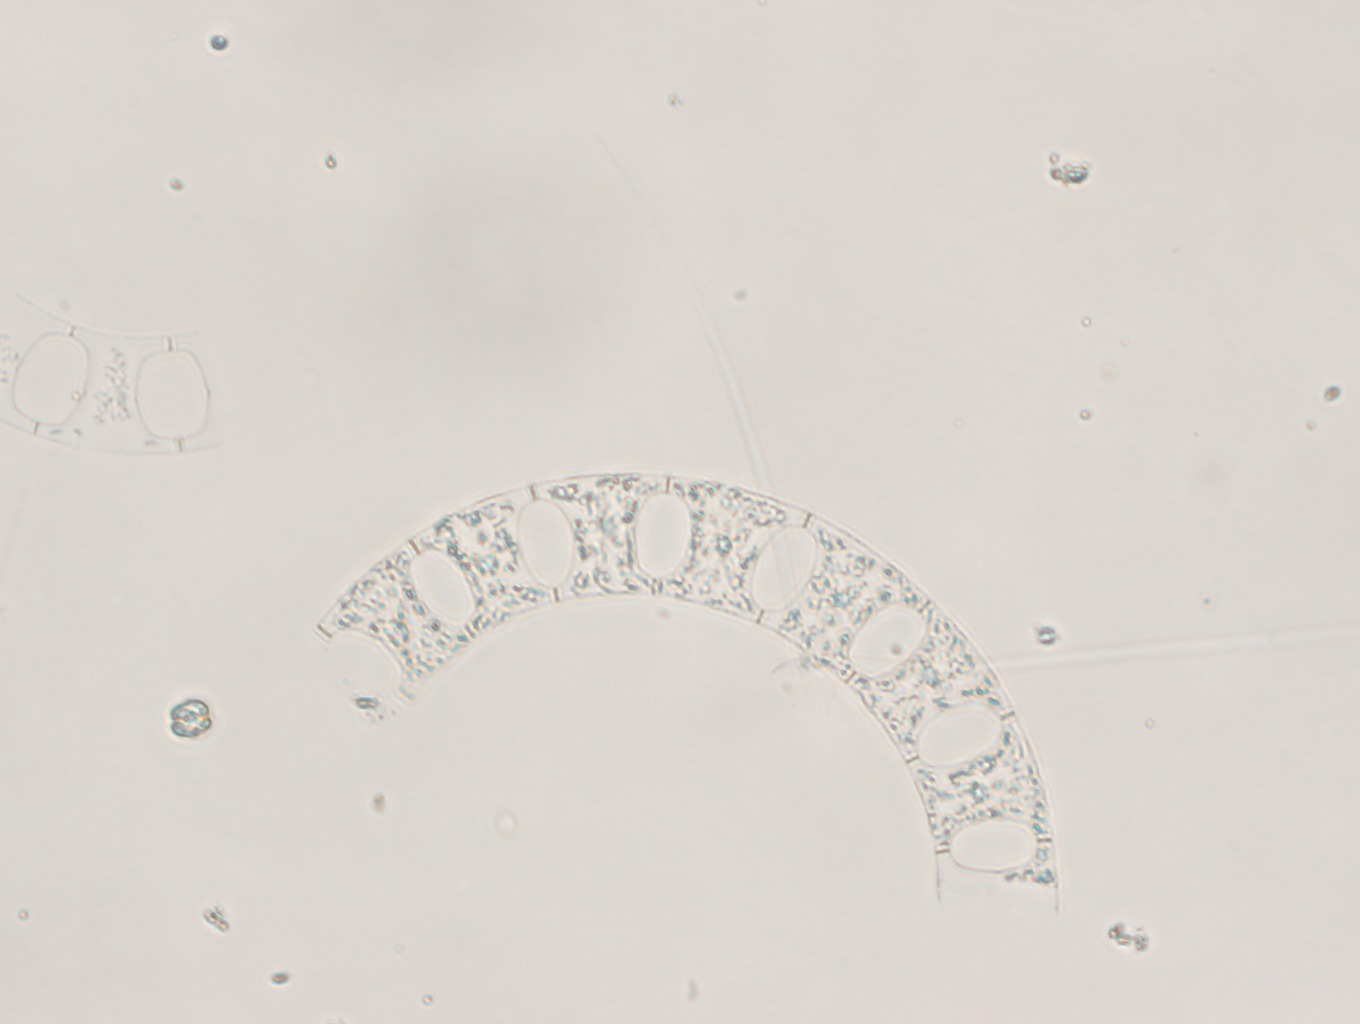eucampia: (307, 467, 1068, 926), (1, 291, 244, 466)
